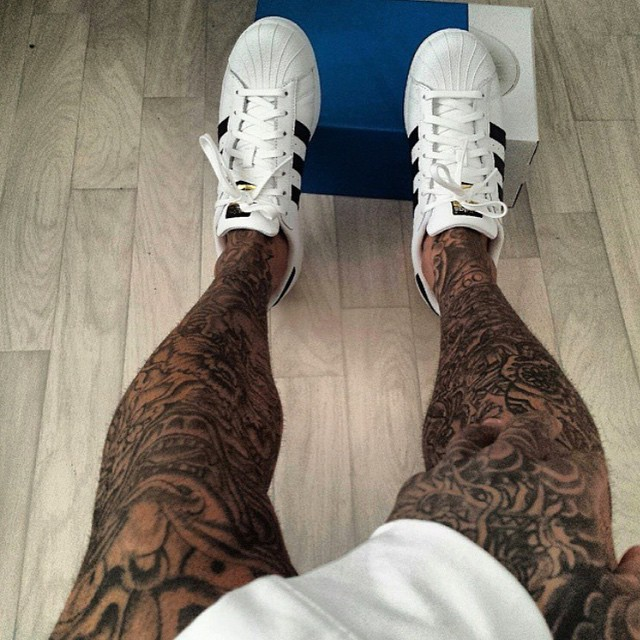sneaker: (188, 8, 332, 317), (384, 16, 523, 323)
